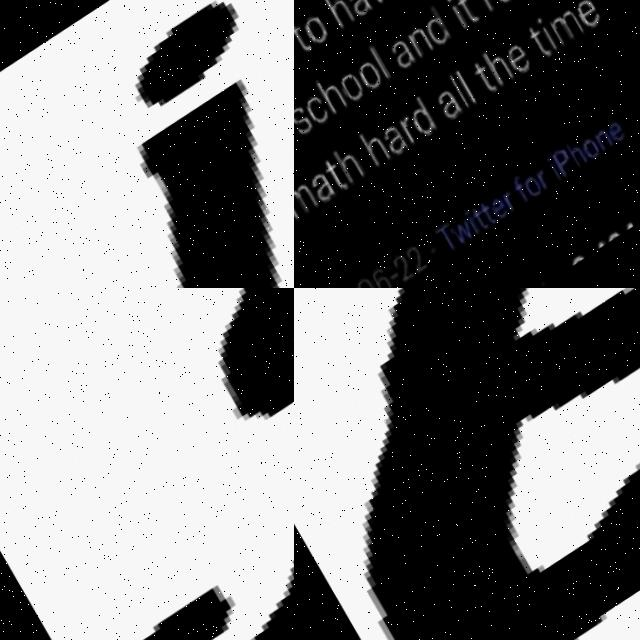0: (355, 277, 386, 288)
2: (405, 247, 433, 283), (391, 255, 420, 288)
3: (573, 261, 590, 275)
4: (593, 247, 611, 263), (623, 230, 640, 244)
6: (371, 268, 399, 288)
9: (607, 237, 626, 253)
E: (365, 288, 640, 640)
G: (0, 288, 294, 640)
J: (0, 0, 294, 288)
